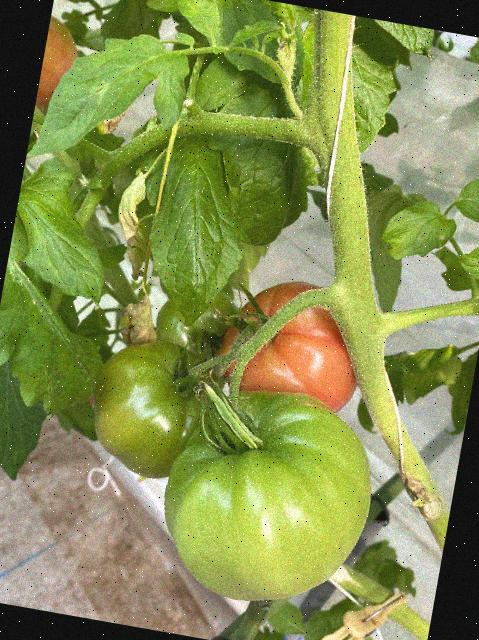b_green: (146, 371, 387, 619), (78, 329, 229, 488), (150, 282, 240, 361)
b_half_ripened: (207, 269, 372, 414), (33, 11, 83, 117)
